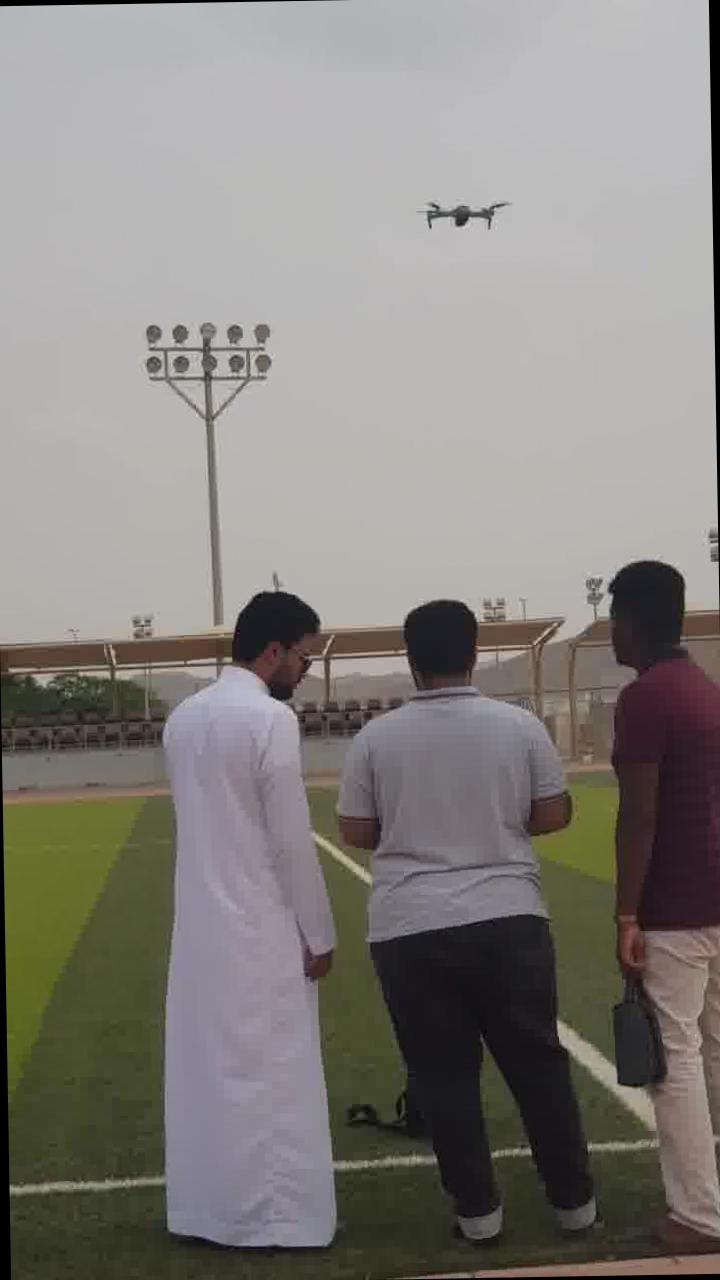drone: (418, 189, 506, 239)
